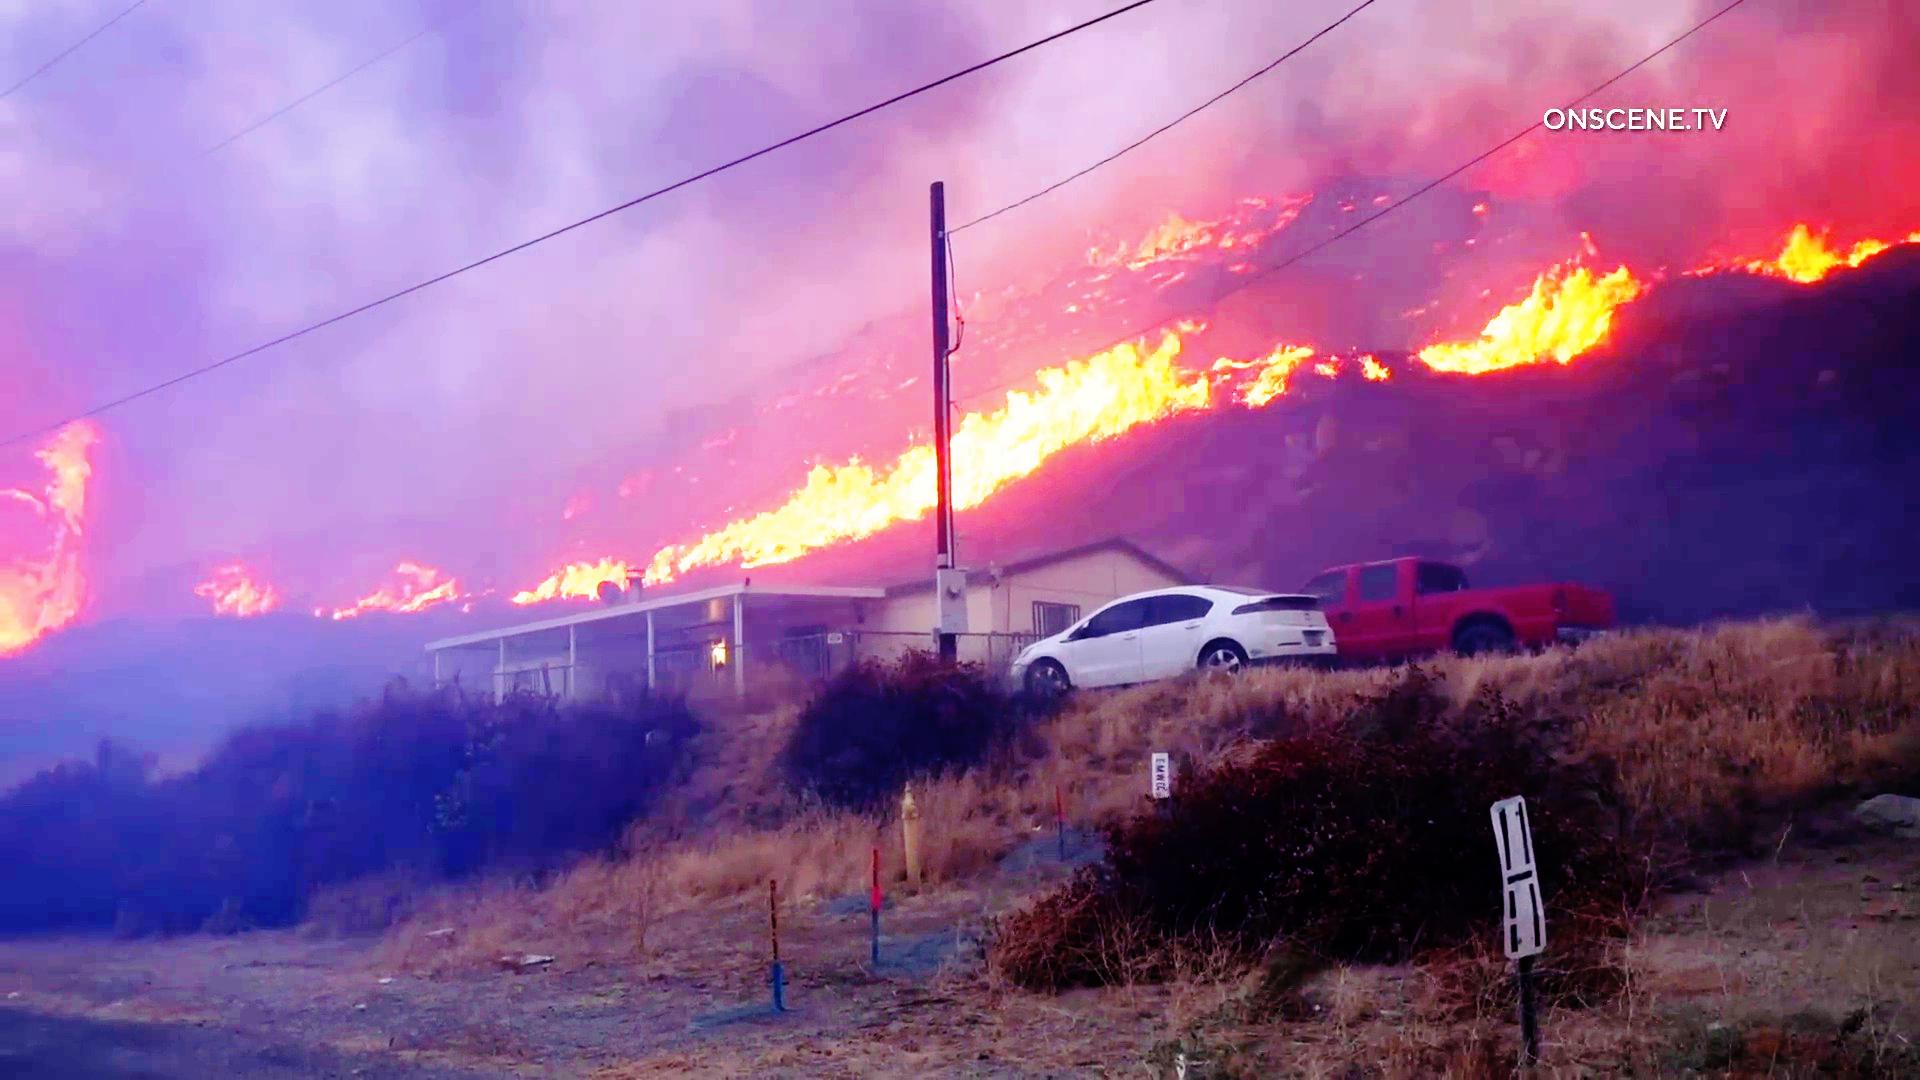fire: (1411, 261, 1646, 389), (957, 360, 1166, 498), (0, 426, 125, 642), (731, 460, 927, 580)
